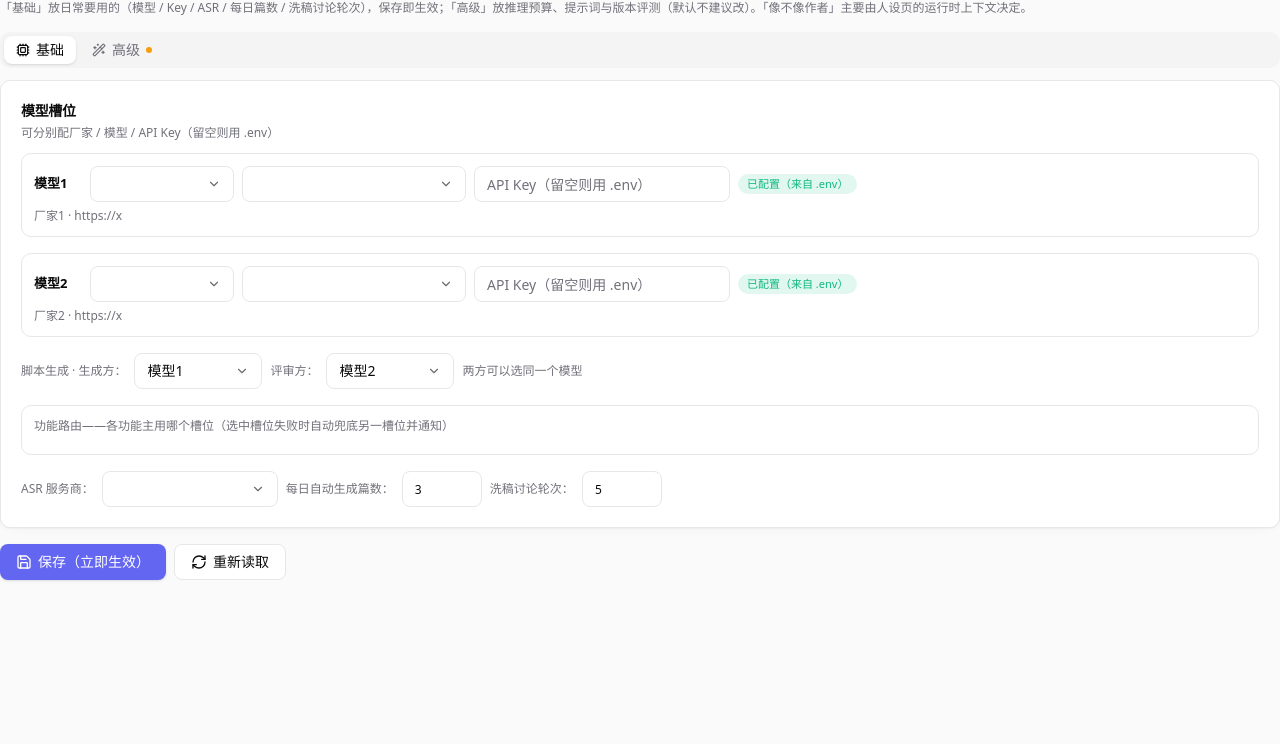
Test case: PromptsPage R-255 提示词清单 › 新接口：按 module 分组、组内按 sort_order 排序，契约行只出现在只读折叠区
Click the tab "高级".
click(122, 50)  # box [80,36,164,64]
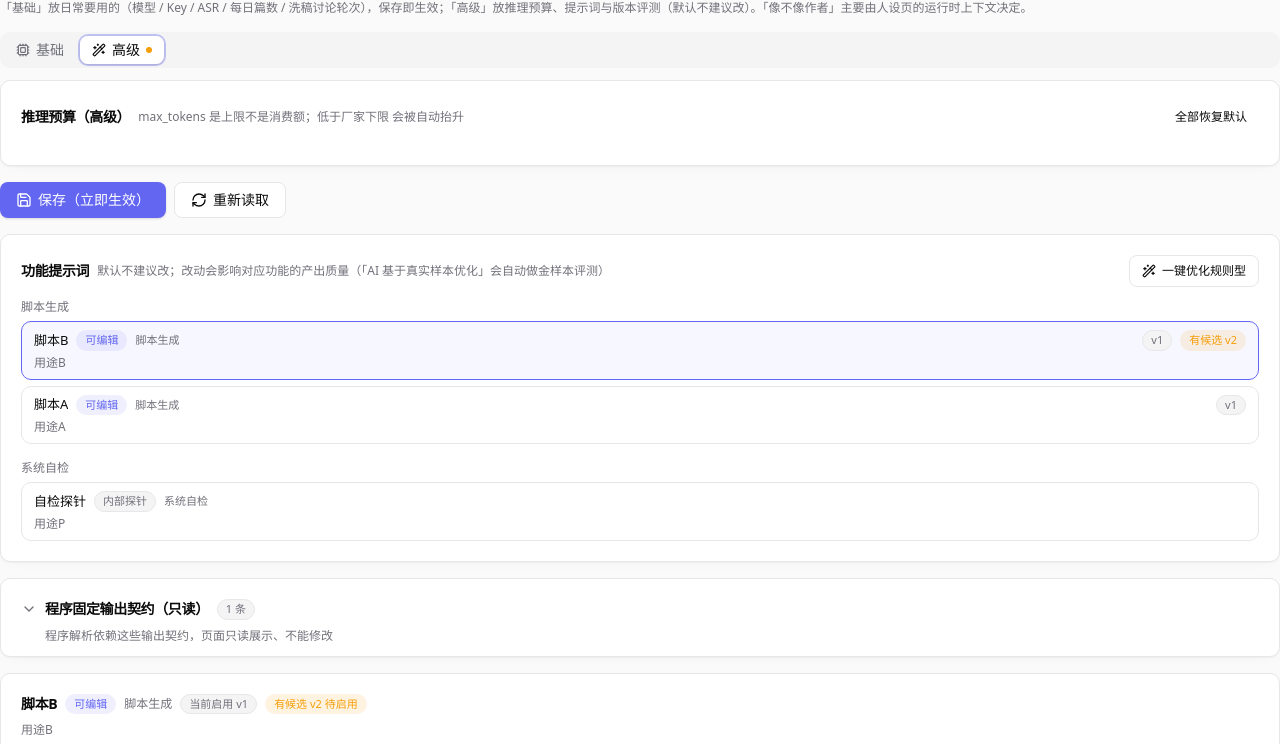
Expected: the 1st text "系统自检" is shown, [21,459,69,476]
Expected: the 1st text "脚本生成" is shown, [21,298,69,315]
Click the button "自检探针 内部探针 系统自检 用途P".
click(60, 501)  # box [21,482,1259,541]
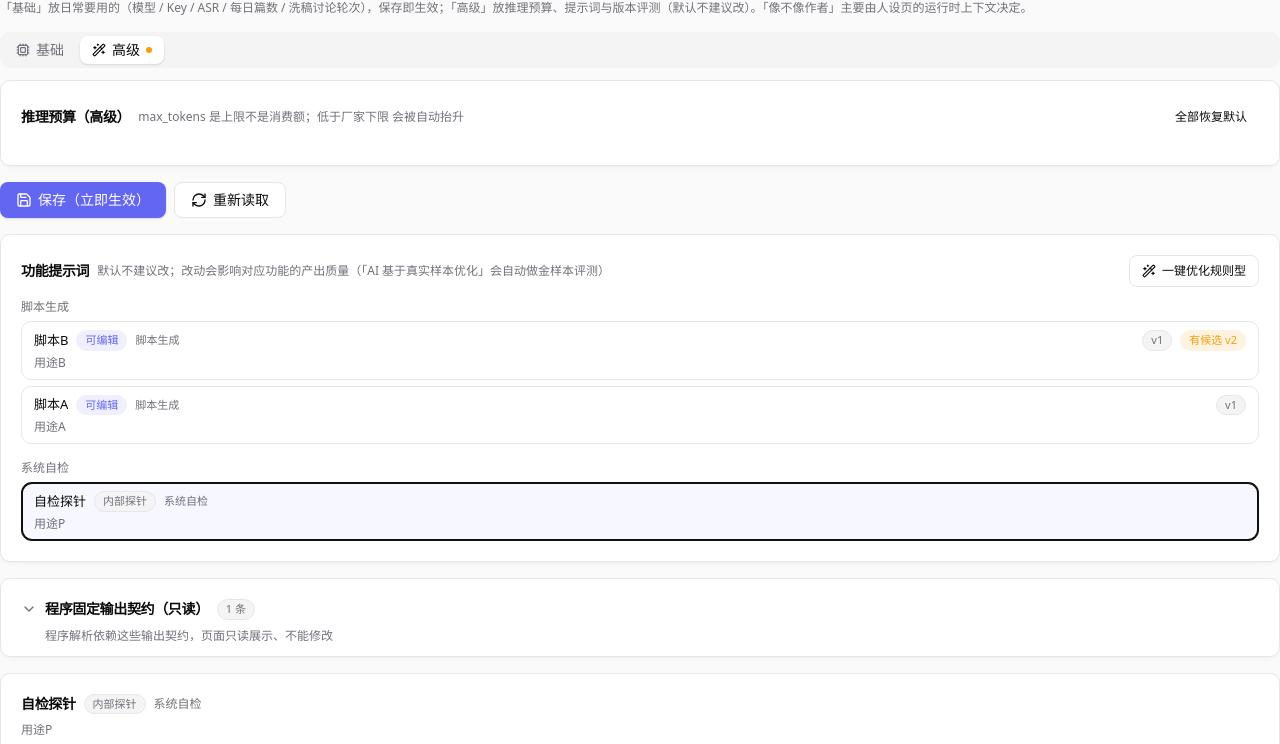
Click the button "脚本B 可编辑 脚本生成 v1 有候选 v2 用途B".
click(51, 340)  # box [21,321,1259,380]
(page scrolled)
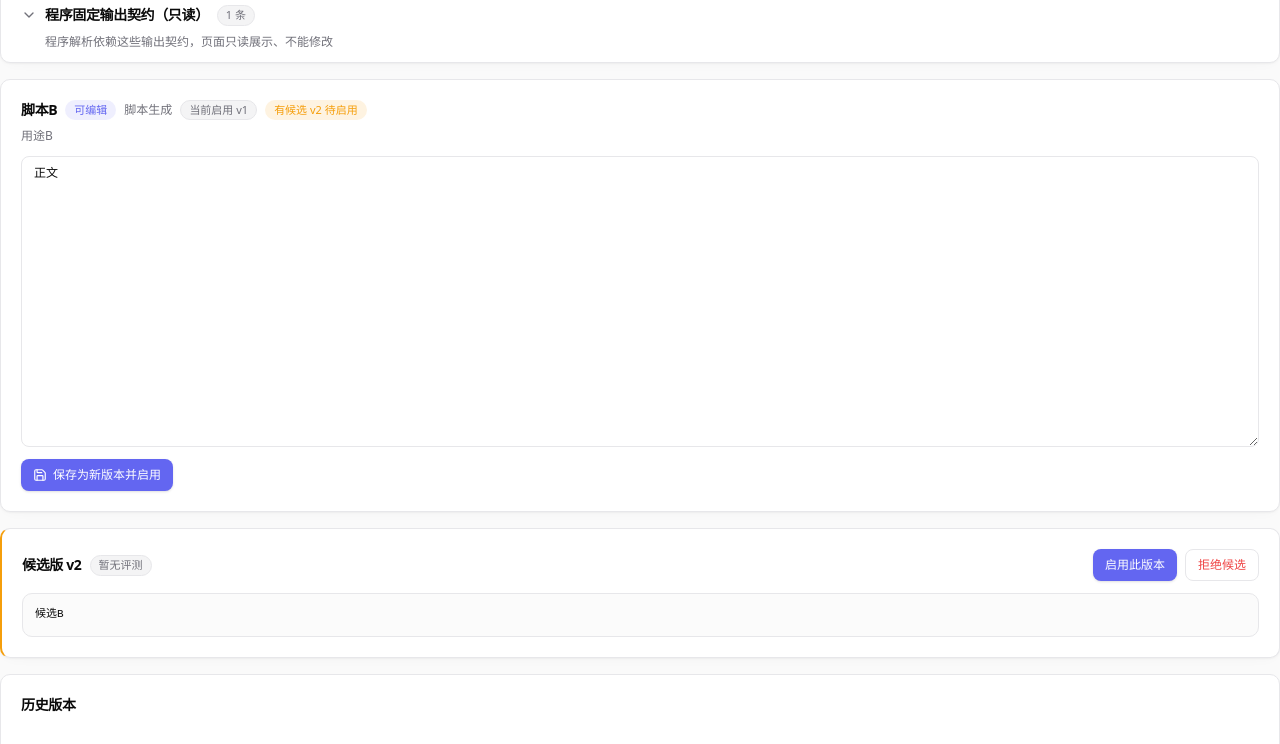
Expected: the button "保存为新版本并启用" is shown, [21,459,173,491]
Expected: the button "启用此版本" is shown, [1093,549,1177,581]
